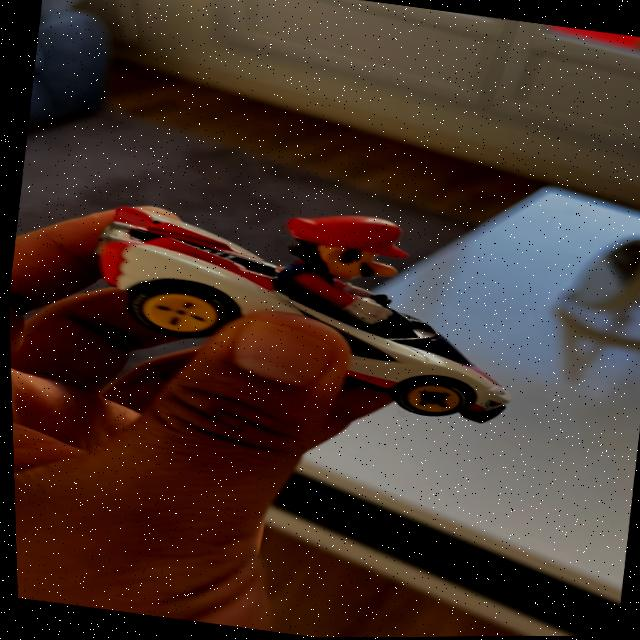mario: (65, 172, 556, 445)
